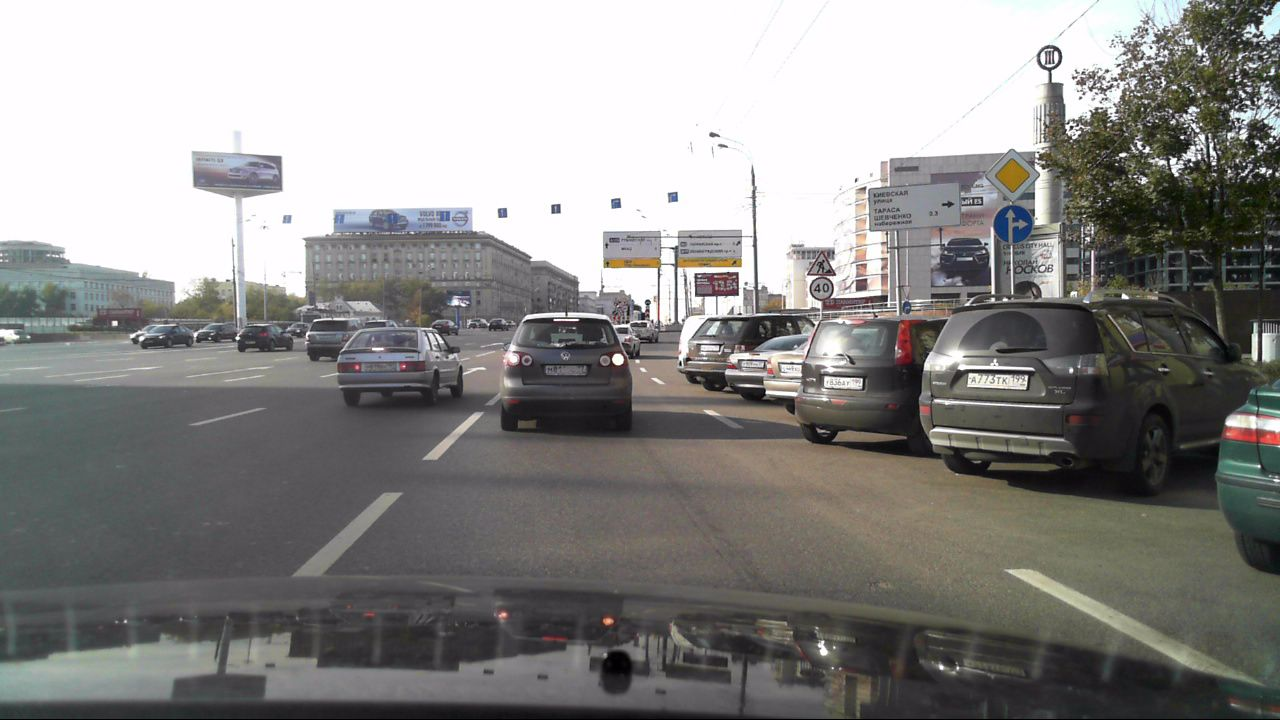speed_warning_40: (810, 276, 835, 301)
